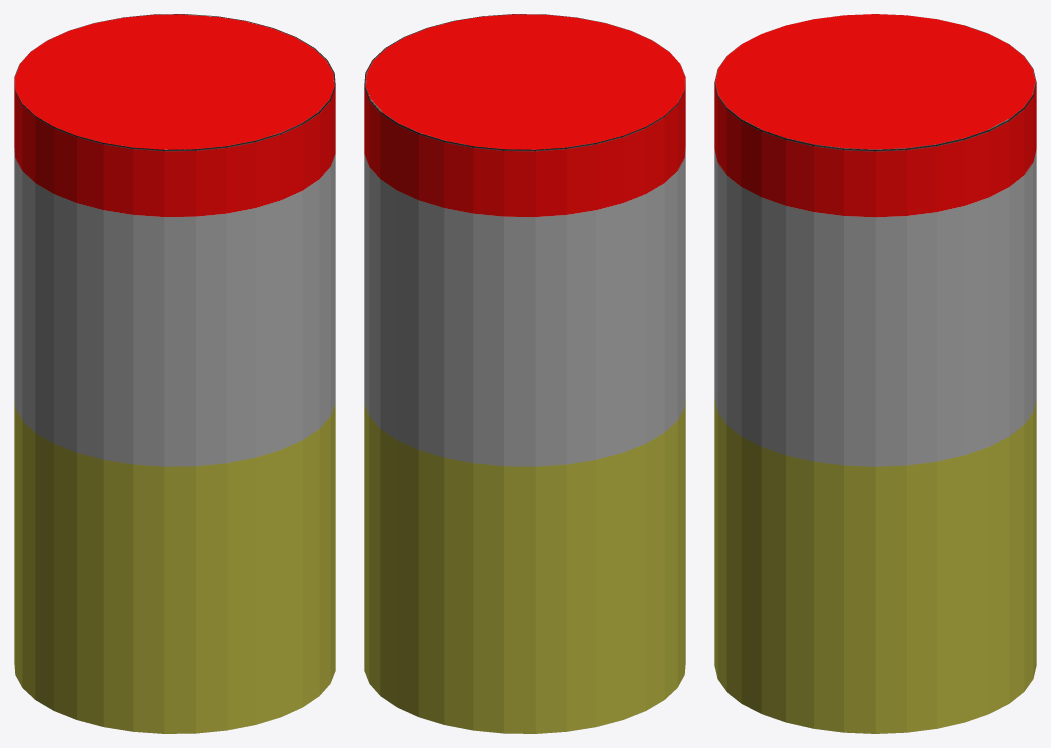
File: fan_motor.dae
The picture shows the model from 3 angles, left to right: view 1: azimuth 30°, elevation 25°; view 2: azimuth 150°, elevation 25°; view 3: azimuth 270°, elevation 25°; orthographic projection.
Visible parts, largest first — view 1: Cylinder_007; view 2: Cylinder_007; view 3: Cylinder_007.
Part boxes in pixels (x1,y1,x2,y2): Cylinder_007: (14,14,335,733); Cylinder_007: (364,14,685,733); Cylinder_007: (714,14,1036,733).
Size of the model in its own units: 0.01 by 0.01 by 0.02.
Materials: 1 (1 with a texture image).
